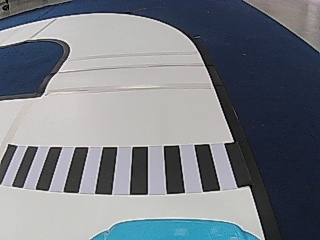CrossWalk: (0, 144, 253, 195)
